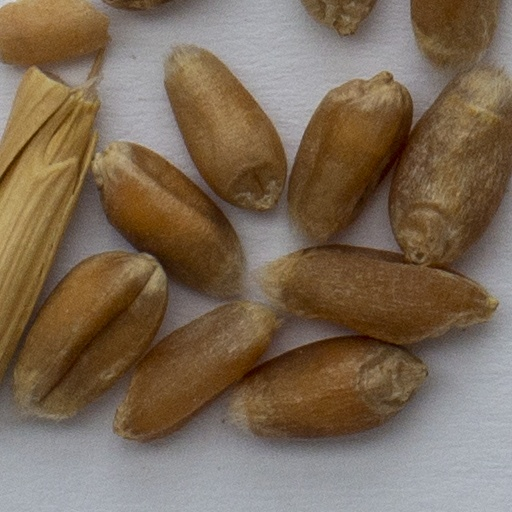Peel-poly: (0, 69, 97, 385)
